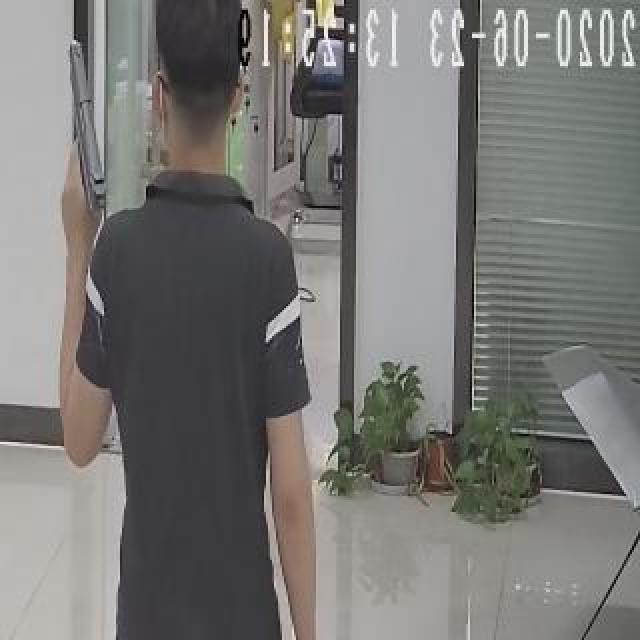Guns: (40, 15, 125, 226)
